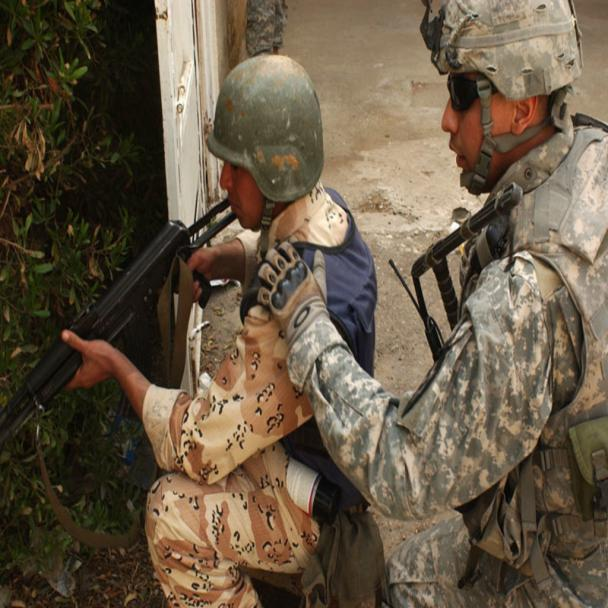Gun: (0, 188, 235, 471)
Hand: (54, 318, 166, 422)
